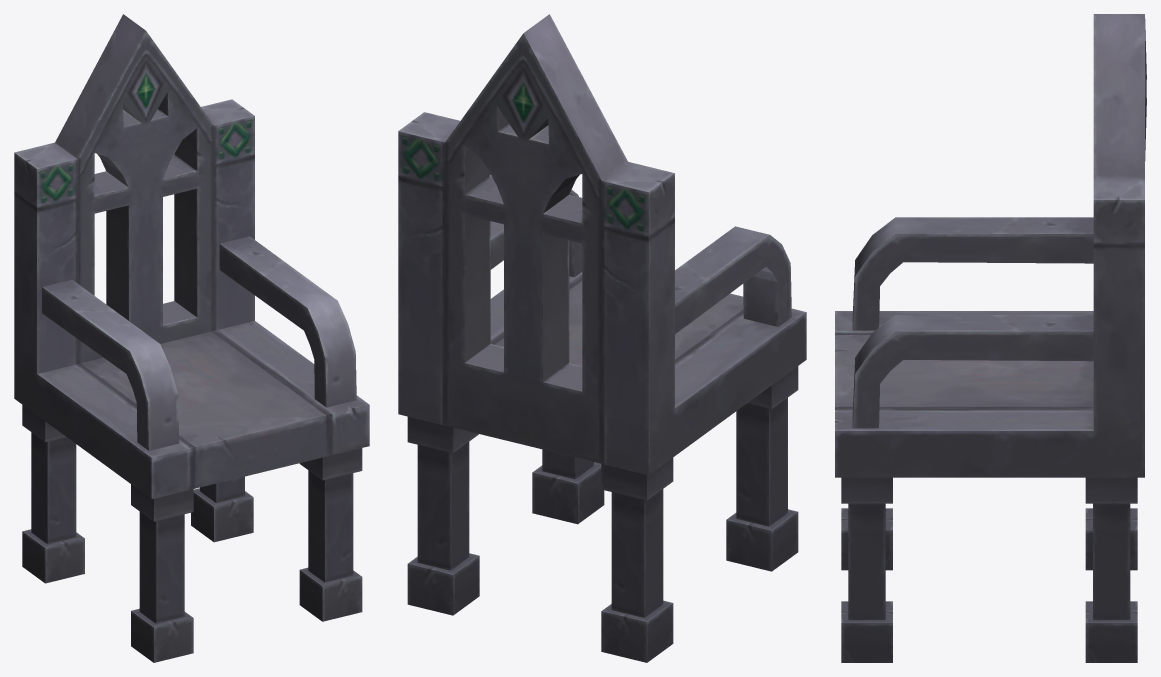
File: Stage_DiXiaCheng_ShiDeng.FBX
The picture shows the model from 3 angles, left to right: view 1: azimuth 30°, elevation 25°; view 2: azimuth 150°, elevation 25°; view 3: azimuth 270°, elevation 25°; orthographic projection. The views are drawn at different scales.
Parts seen in each view (by area): view 1: Stage_DiXiaCheng_ShiDeng; view 2: Stage_DiXiaCheng_ShiDeng; view 3: Stage_DiXiaCheng_ShiDeng.
Part boxes in pixels (x1,y1,x2,y2): Stage_DiXiaCheng_ShiDeng: (14,14,369,662); Stage_DiXiaCheng_ShiDeng: (398,14,806,662); Stage_DiXiaCheng_ShiDeng: (835,14,1146,662).
Bounding box in the file's own units: 100 × 231 × 110.
